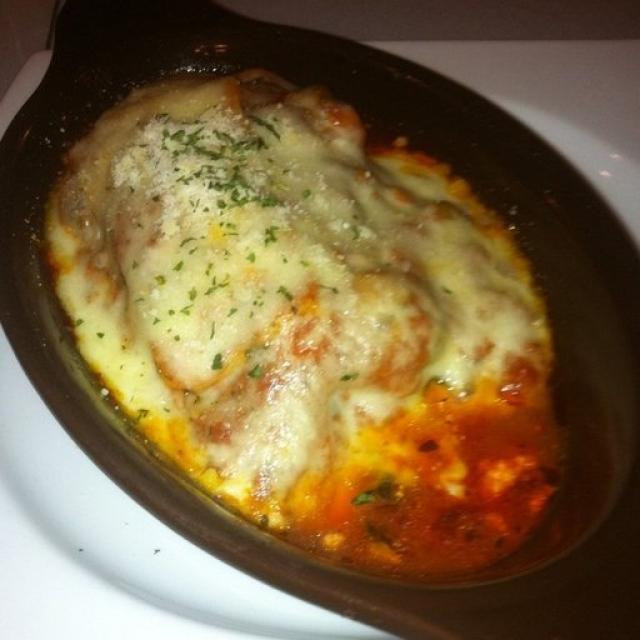Lasagna: (50, 59, 592, 591)
